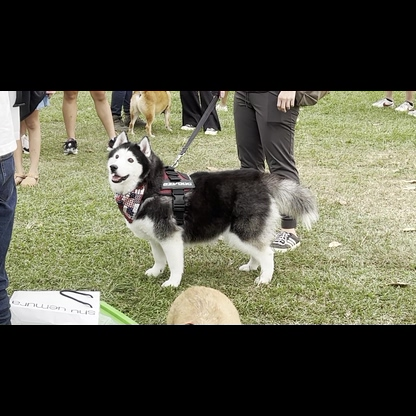husky: (99, 127, 326, 290)
